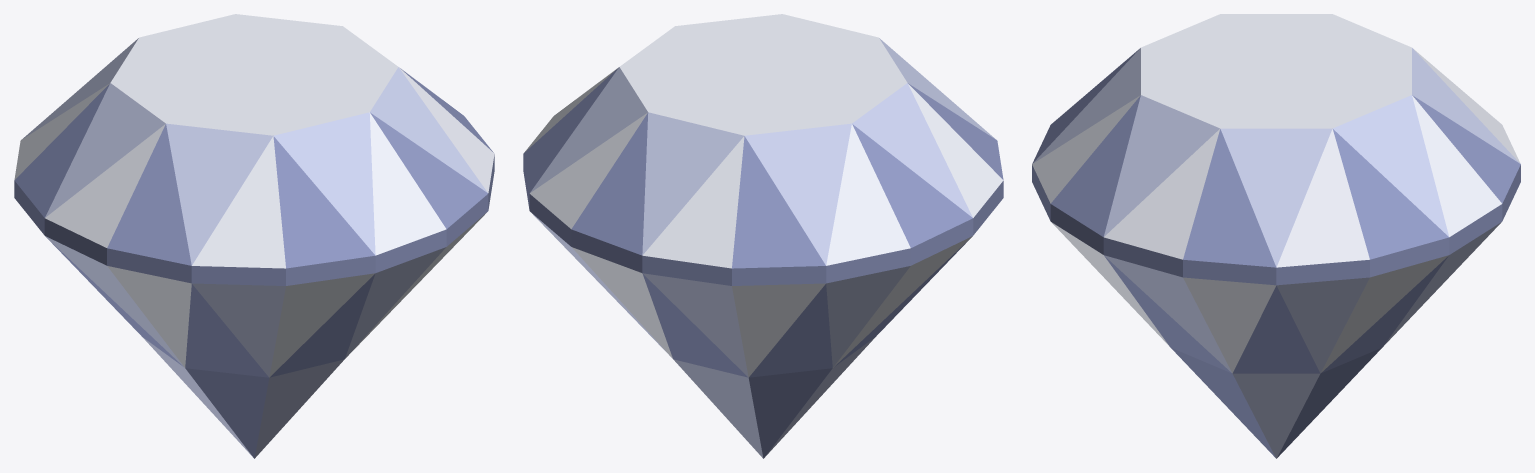
The model's file is Diamond.fbx.
3 renders of one model, left to right at view 1: azimuth 30°, elevation 25°; view 2: azimuth 150°, elevation 25°; view 3: azimuth 270°, elevation 25°, orthographic.
Parts seen in each view (by area): view 1: Diamond; view 2: Diamond; view 3: Diamond.
Part boxes in pixels (left/top/right/bottom): Diamond: left=14, top=14, right=494, bottom=458; Diamond: left=523, top=14, right=1003, bottom=458; Diamond: left=1032, top=14, right=1520, bottom=458.
Bounding box in the file's own units: 2 × 1.75 × 2.
Materials: 1 (1 with a texture image).
